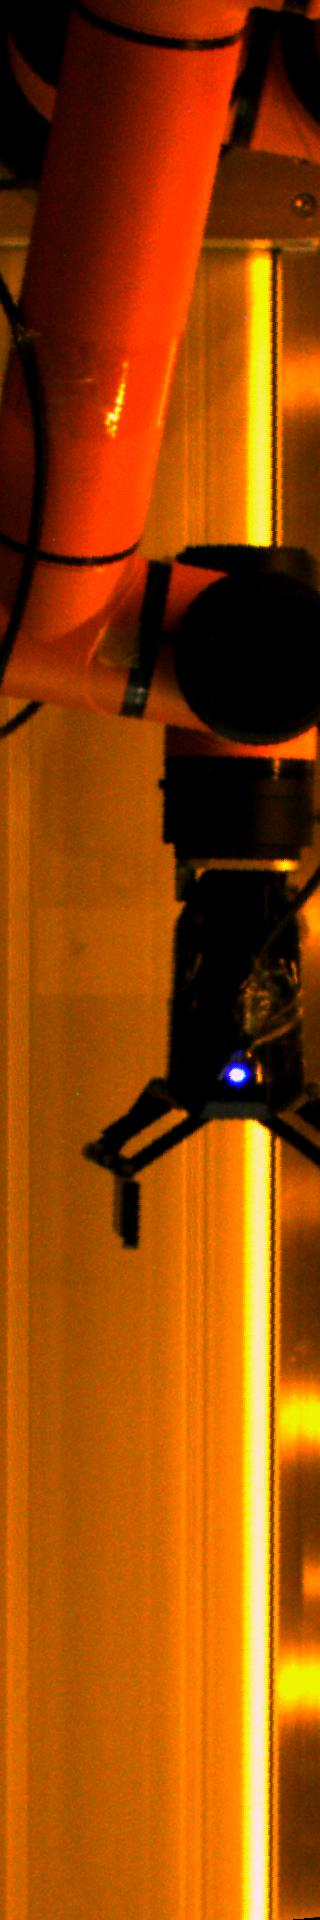keyPoint_1: (222, 1057, 253, 1087)
